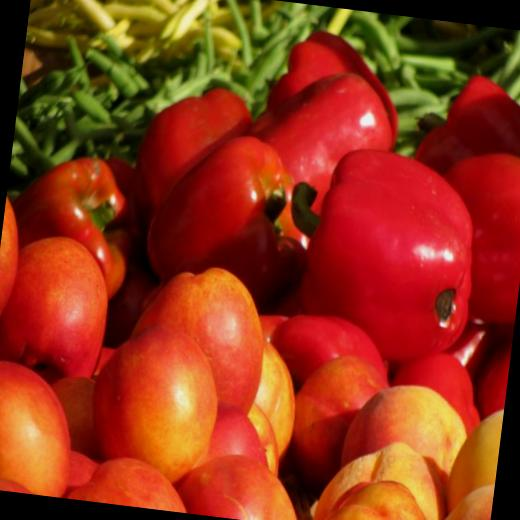Apple: (0, 190, 520, 520), (77, 309, 224, 486)
